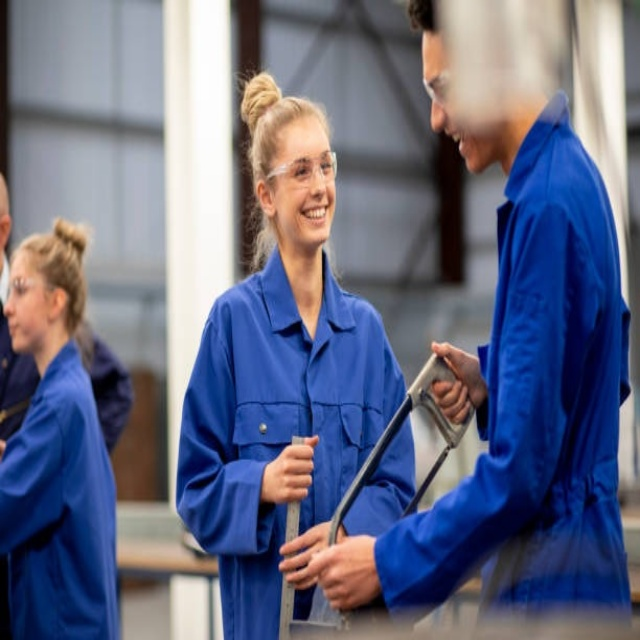Gafas: (266, 152, 339, 187), (424, 56, 457, 107), (8, 275, 49, 297)
Sin_guantes: (282, 527, 377, 612), (429, 339, 487, 419), (268, 430, 323, 502)
Sin_mascara: (441, 115, 483, 171), (296, 198, 335, 242), (4, 312, 31, 353)
